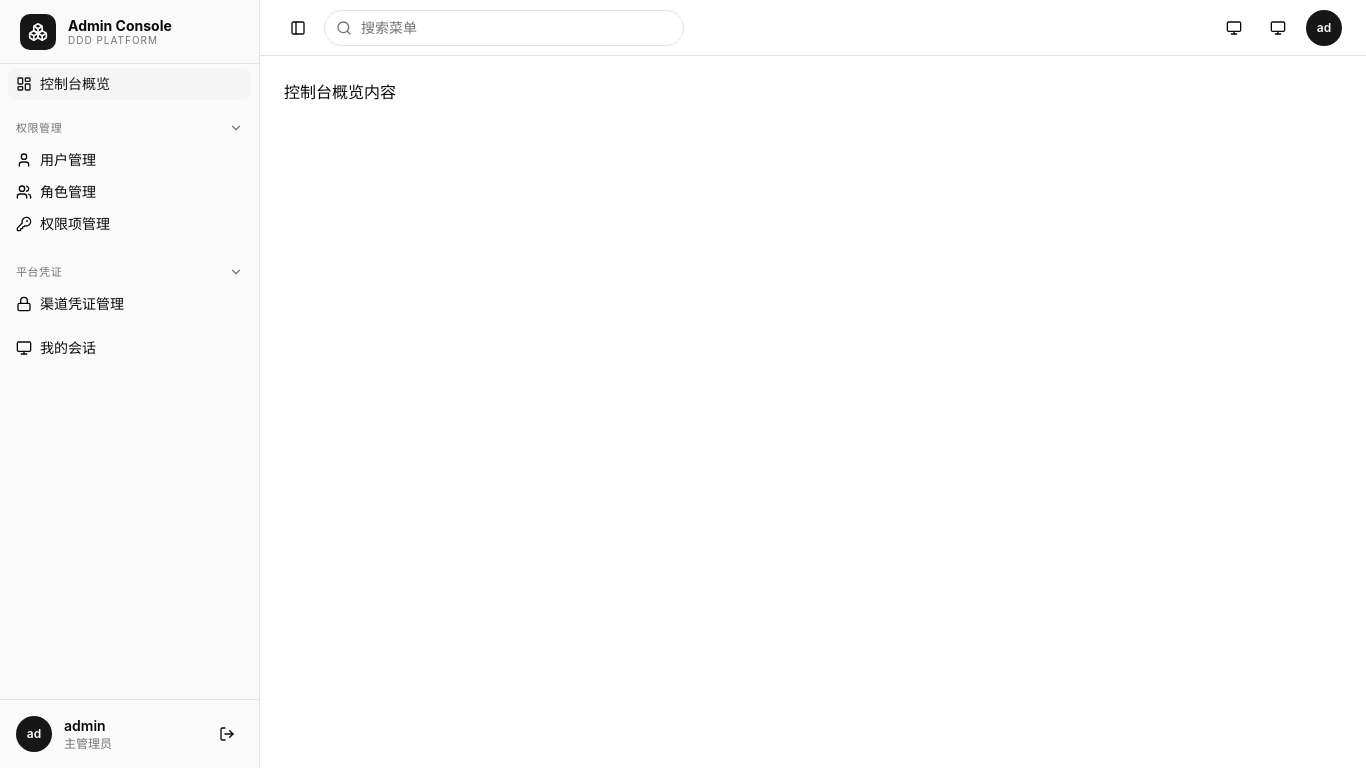
AppLayout 布局与菜单交互 › 5. 清空关键字后菜单恢复（菜单项数量回到初始）
Step 1. Type "角色管理" into the field with placeholder "搜索菜单" → (504, 28), box top-left (324, 10), bottom-right (684, 46)
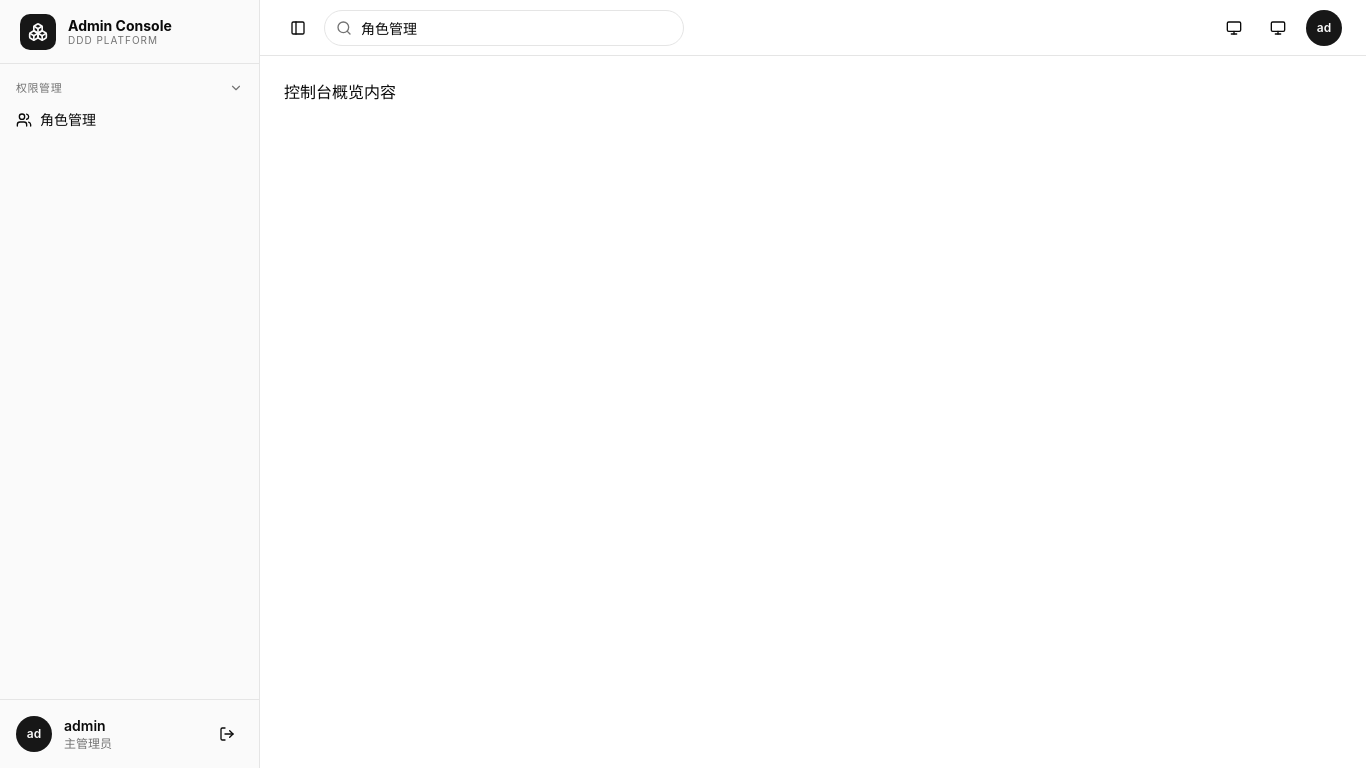
Result: the link "用户管理" is gone
Result: the button "平台凭证" is gone
#  清空关键字恢复
Step 2. Clear the field with placeholder "搜索菜单" → (504, 28), box top-left (324, 10), bottom-right (684, 46)
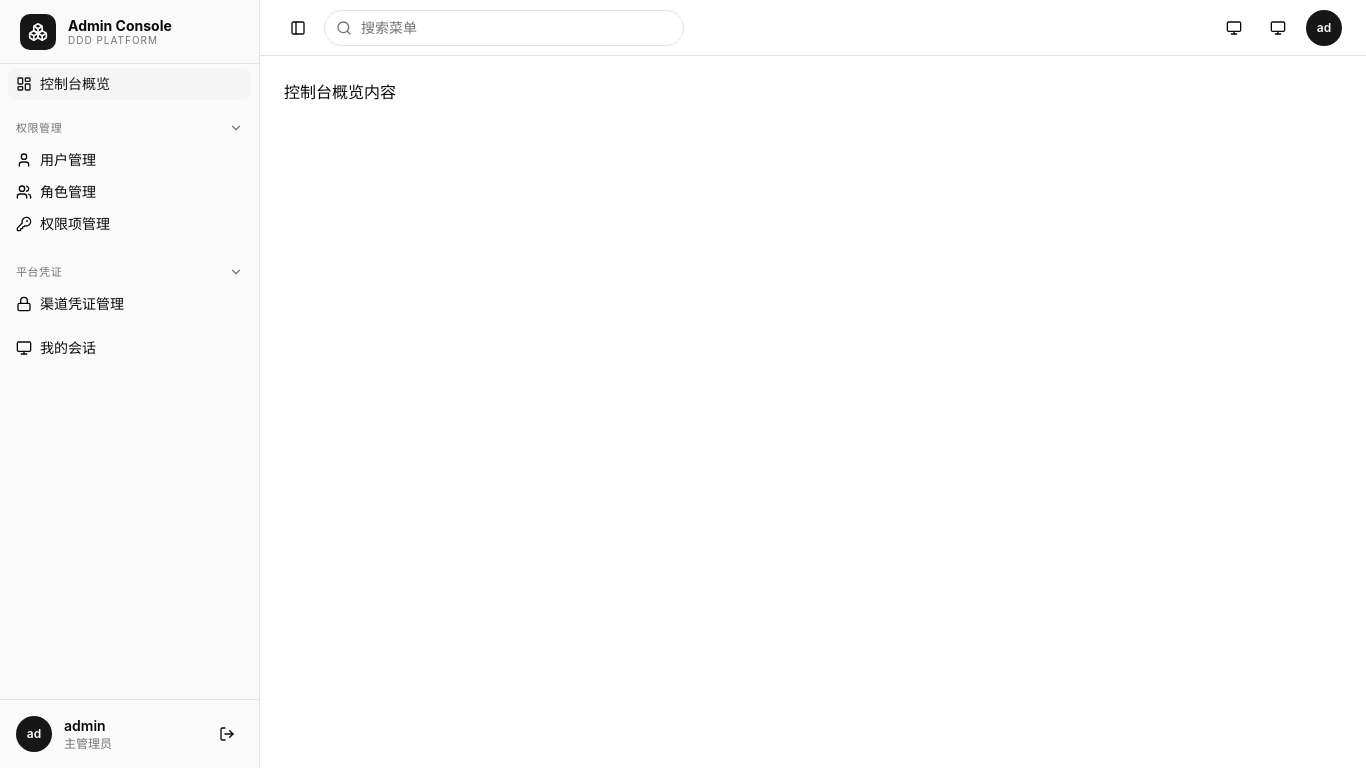
Result: the text "控制台概览" is shown at top-left (40, 74), bottom-right (110, 94)
Result: the text "用户管理" is shown at top-left (40, 150), bottom-right (96, 170)
Result: the text "权限项管理" is shown at top-left (40, 214), bottom-right (110, 234)
